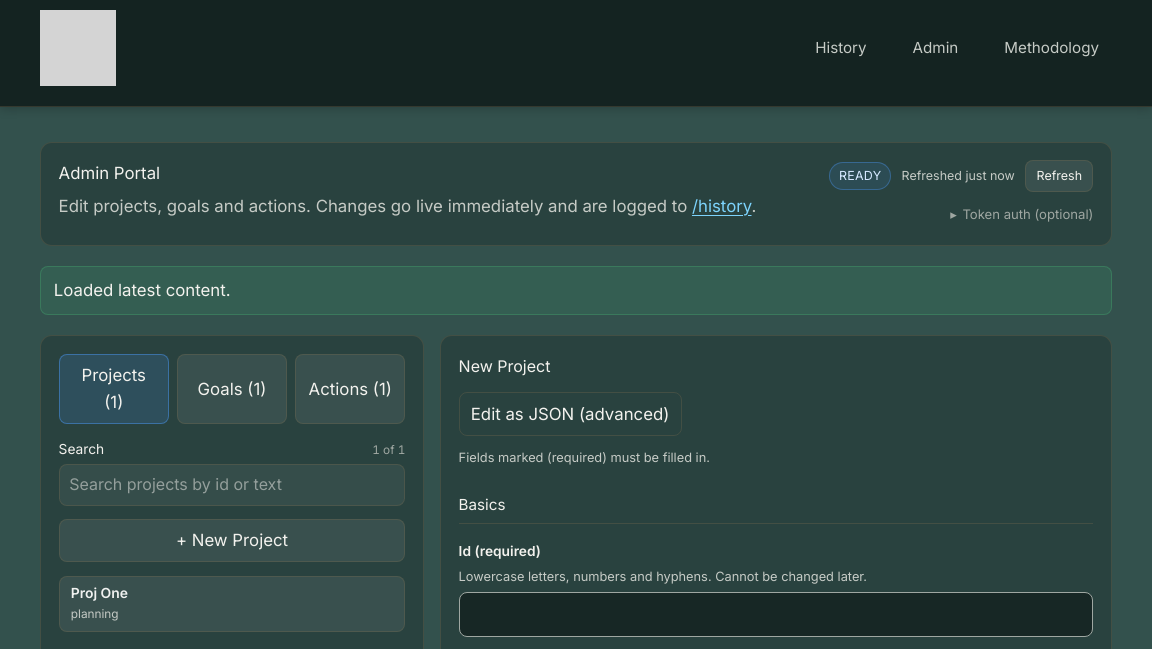
Test: saving › sends nothing when nothing changed
Step 1. Click the tab "Goals (1)" → [232, 389], box [177,354,287,424]
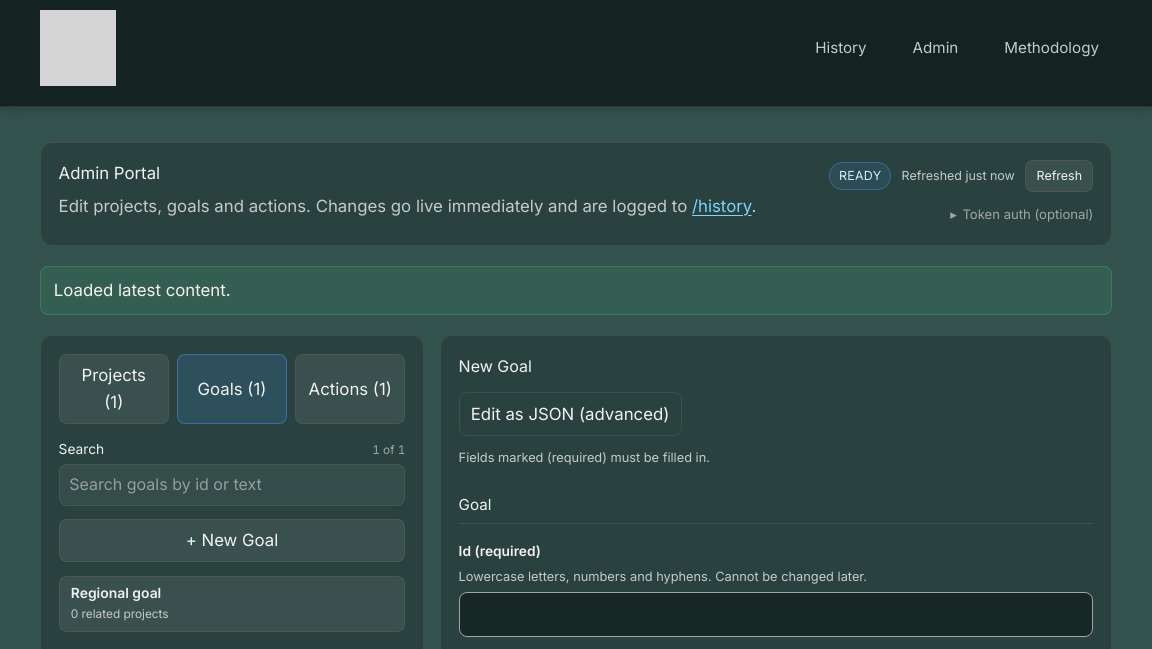
Step 2. Click the button "Regional goal 0 related projects" → [116, 593], box [59,576,405,632]
(page scrolled)
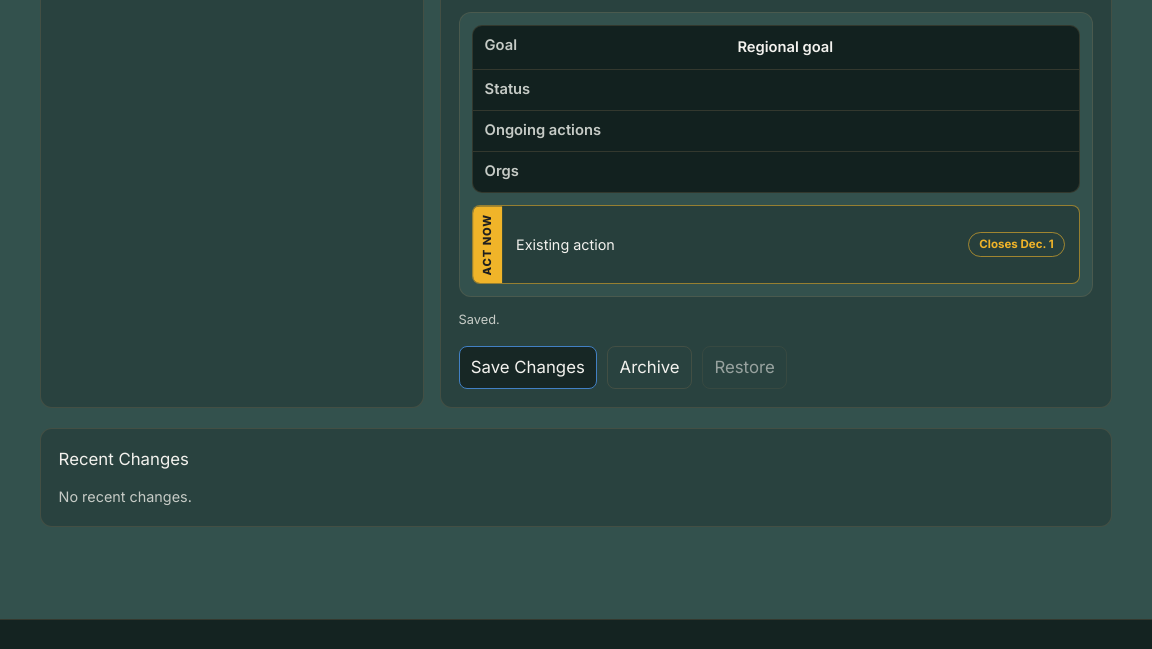
Step 3. Click the button "Save Changes" → [528, 367], box [459,346,597,389]
(page scrolled)
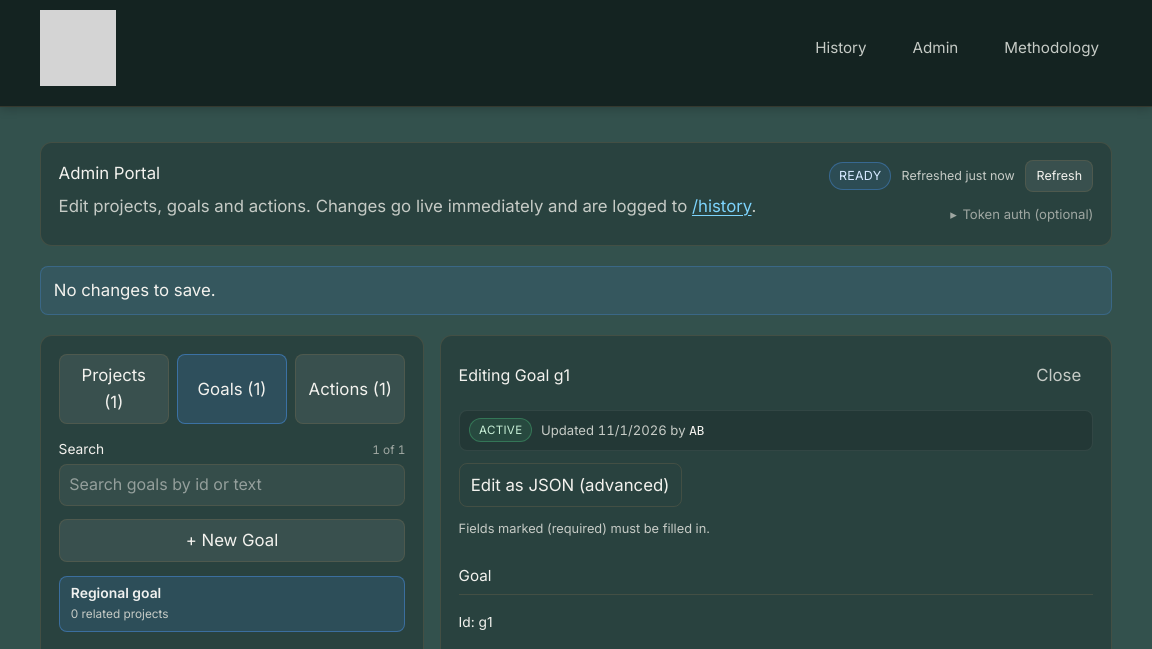
Check: the message reads "No changes to save.", box [54,280,216,300]
